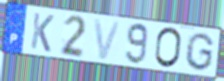2: (60, 14, 88, 59)
9: (123, 22, 150, 67)
G: (184, 32, 216, 73)
K: (29, 11, 56, 54)
O: (153, 26, 184, 70)
V: (92, 17, 123, 61)
